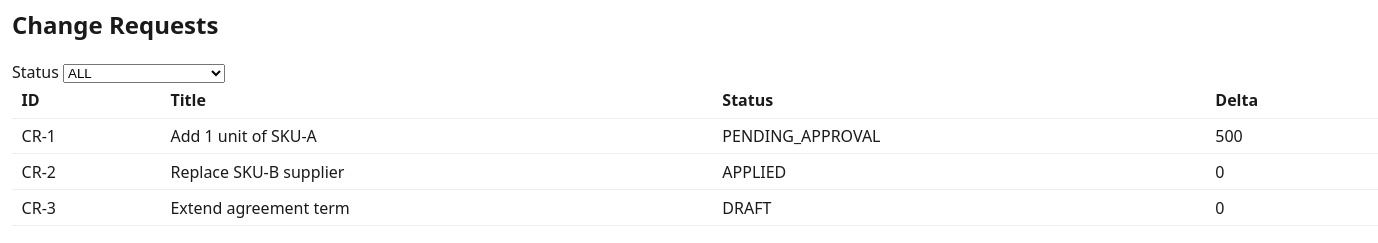
it: CrListComponent › shows a "no match" message when nothing matches the filter
The width and height of the screenshot is (1378, 243).
Select "REJECTED" in the dropdown with class "cr-list__filter": (144, 73) [63,64,225,83]
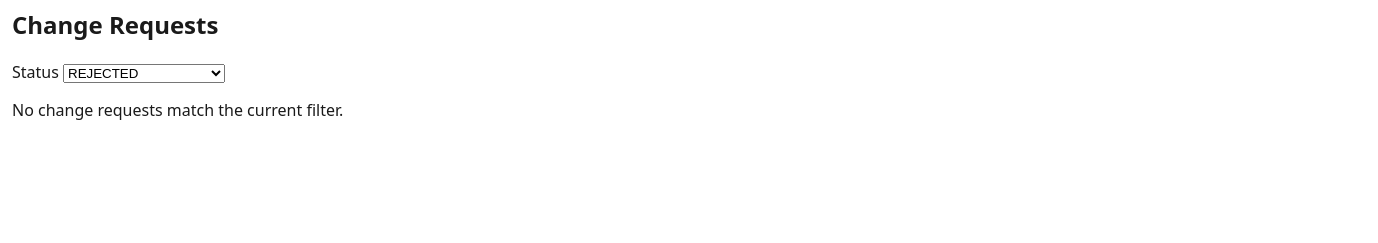
Now no rows with class "cr-list__row" are shown
Now the text "No change requests match the current filter." is shown, box [12,99,343,121]
